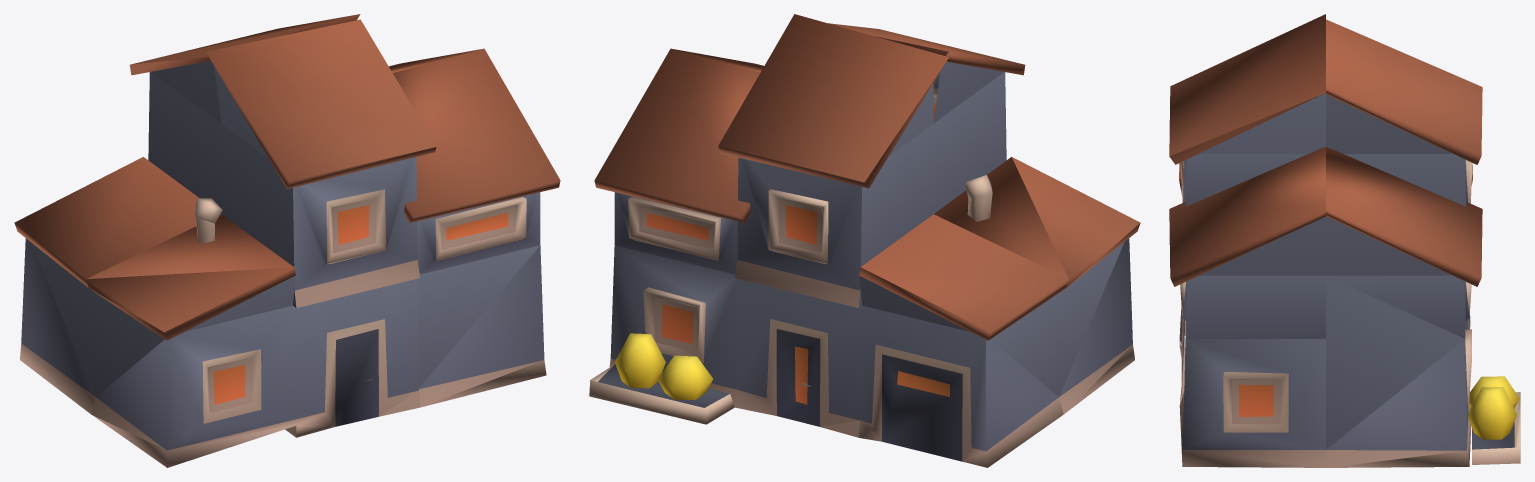
Rendered from casa_c.fbx.
The picture shows the model from 3 angles, left to right: view 1: azimuth 30°, elevation 25°; view 2: azimuth 150°, elevation 25°; view 3: azimuth 270°, elevation 25°; orthographic projection. The views are drawn at different scales.
Visible parts, largest first — view 1: casa_c; view 2: casa_c; view 3: casa_c.
Part boxes in pixels (box(x1,y1,x2,y2)): casa_c: box(14, 14, 560, 467); casa_c: box(589, 14, 1140, 467); casa_c: box(1169, 14, 1520, 467).
Size of the model in its own units: 1.29 by 1.03 by 1.01.
